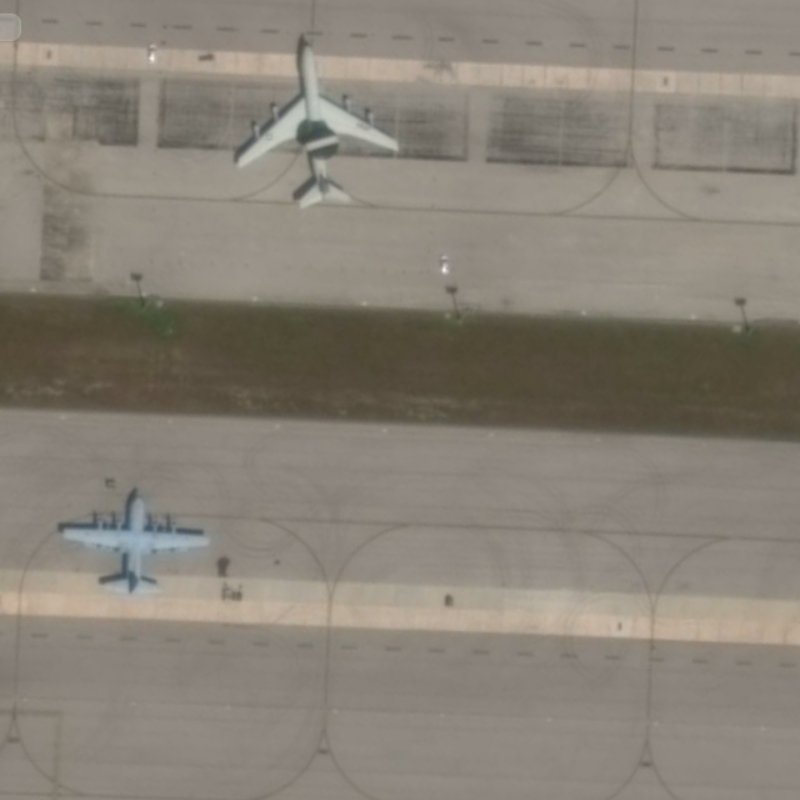A2: (53, 486, 215, 601)
A7: (224, 34, 406, 219)
